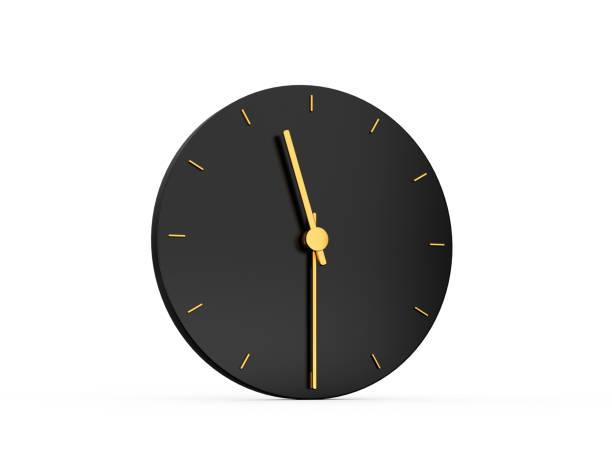clock: (131, 75, 488, 441)
